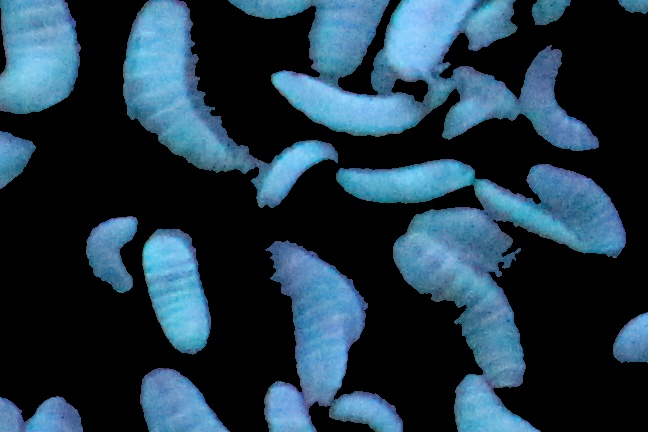larvae: (120, 1, 261, 172), (392, 237, 526, 389), (268, 240, 372, 403), (270, 67, 423, 137), (525, 156, 626, 255), (1, 1, 82, 116), (521, 45, 602, 153), (144, 229, 211, 356), (382, 1, 477, 81), (407, 208, 517, 275), (476, 178, 578, 249), (305, 1, 389, 76), (336, 159, 475, 204), (255, 140, 338, 209), (136, 370, 227, 432), (444, 378, 541, 432), (78, 217, 141, 297), (328, 389, 406, 432), (437, 93, 500, 138), (258, 384, 315, 432)
